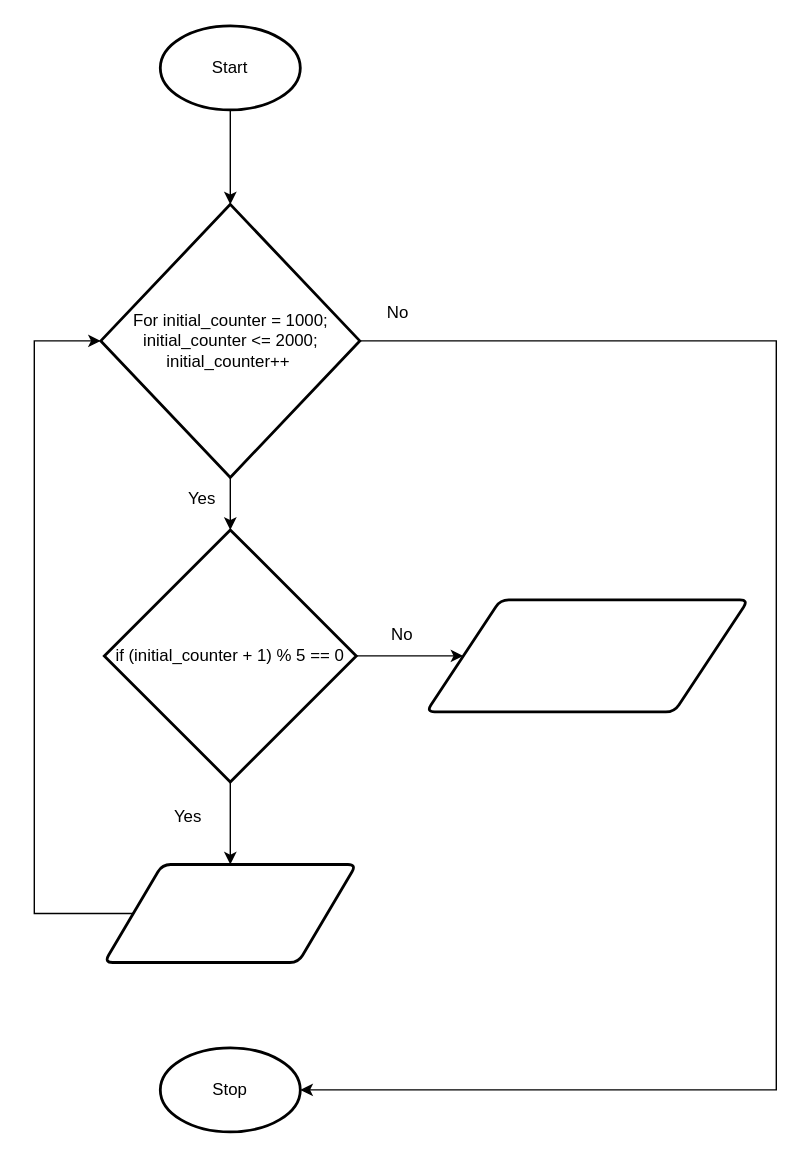
The diagram is 812 pixels wide and 1156 high, and some of its shapes have lost their labels. Each missing label, with the centre of its shape:
print "initial_counter, end = """: (586,655)
print "initial_counter\n": (229,912)
